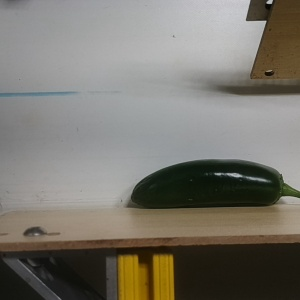Cut Point: (262, 166, 297, 207)
